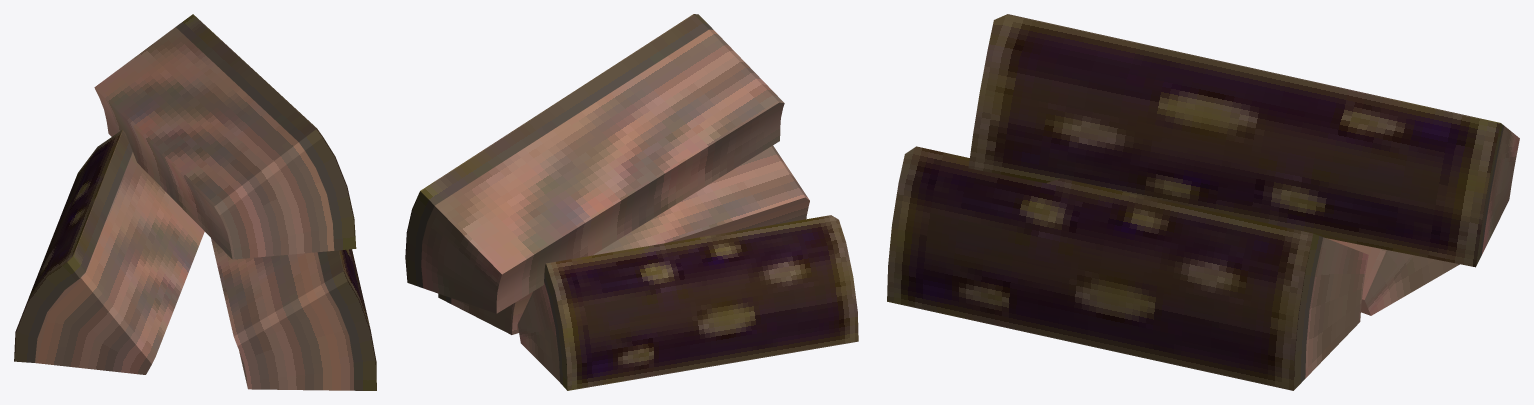
File: hardwood.glb
The picture shows the model from 3 angles, left to right: view 1: azimuth 30°, elevation 25°; view 2: azimuth 150°, elevation 25°; view 3: azimuth 270°, elevation 25°; orthographic projection. The views are drawn at different scales.
Bounding box in the file's own units: 5.52 × 3.31 × 6.52.
1 material, 1 textured.
